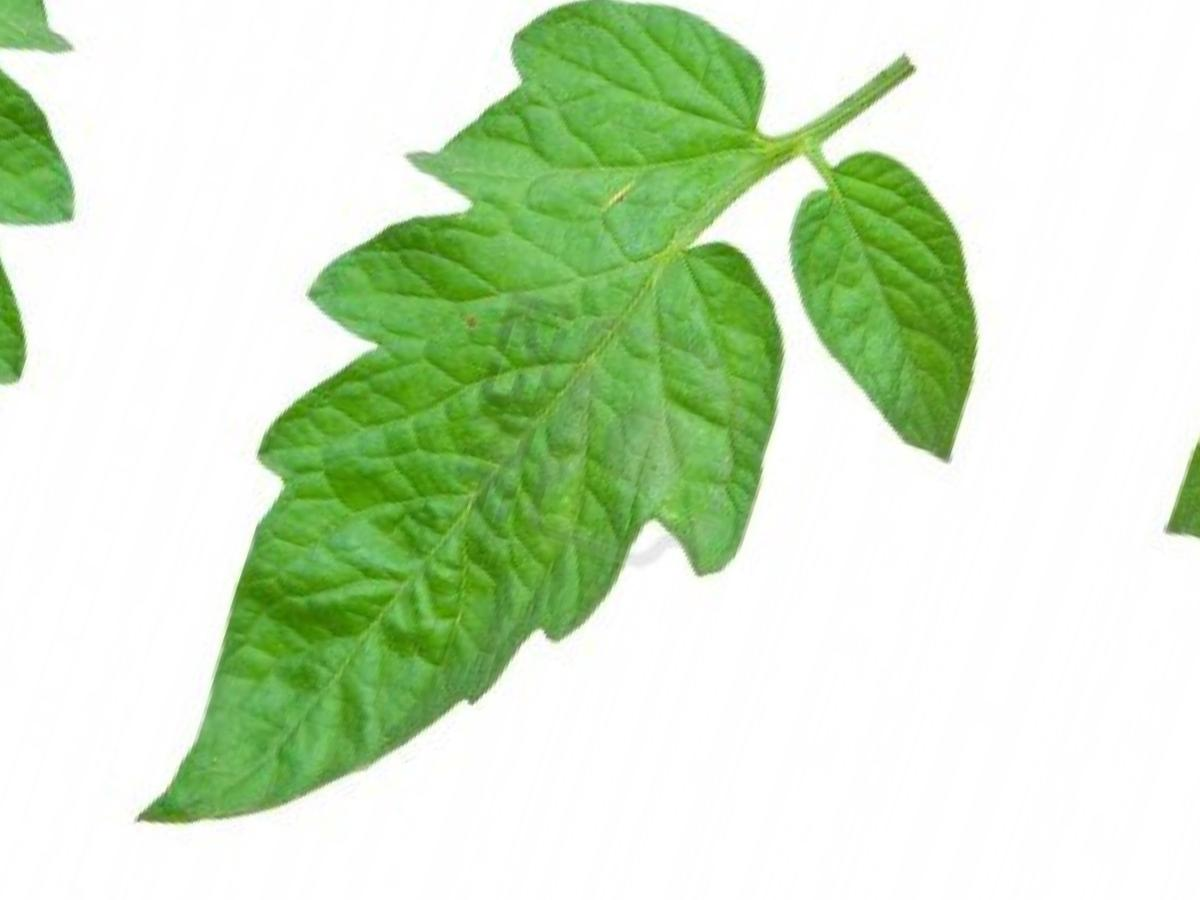Tomato leaf: (84, 0, 913, 900), (725, 132, 1067, 514)
